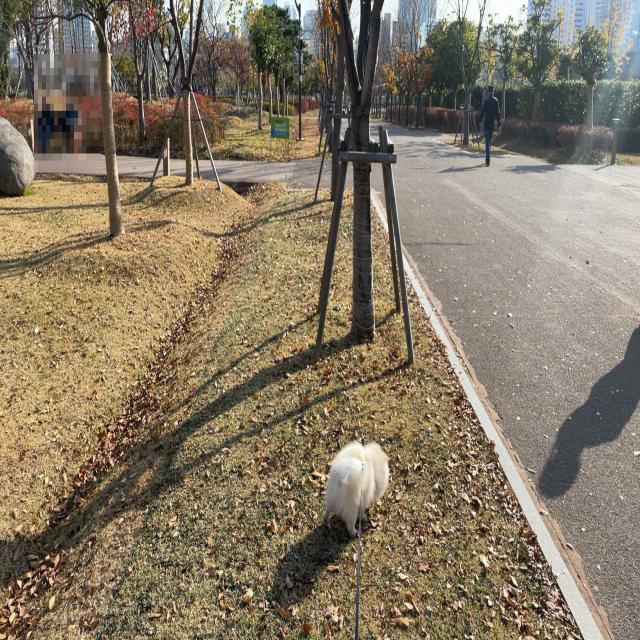Dog: (324, 439, 392, 539)
